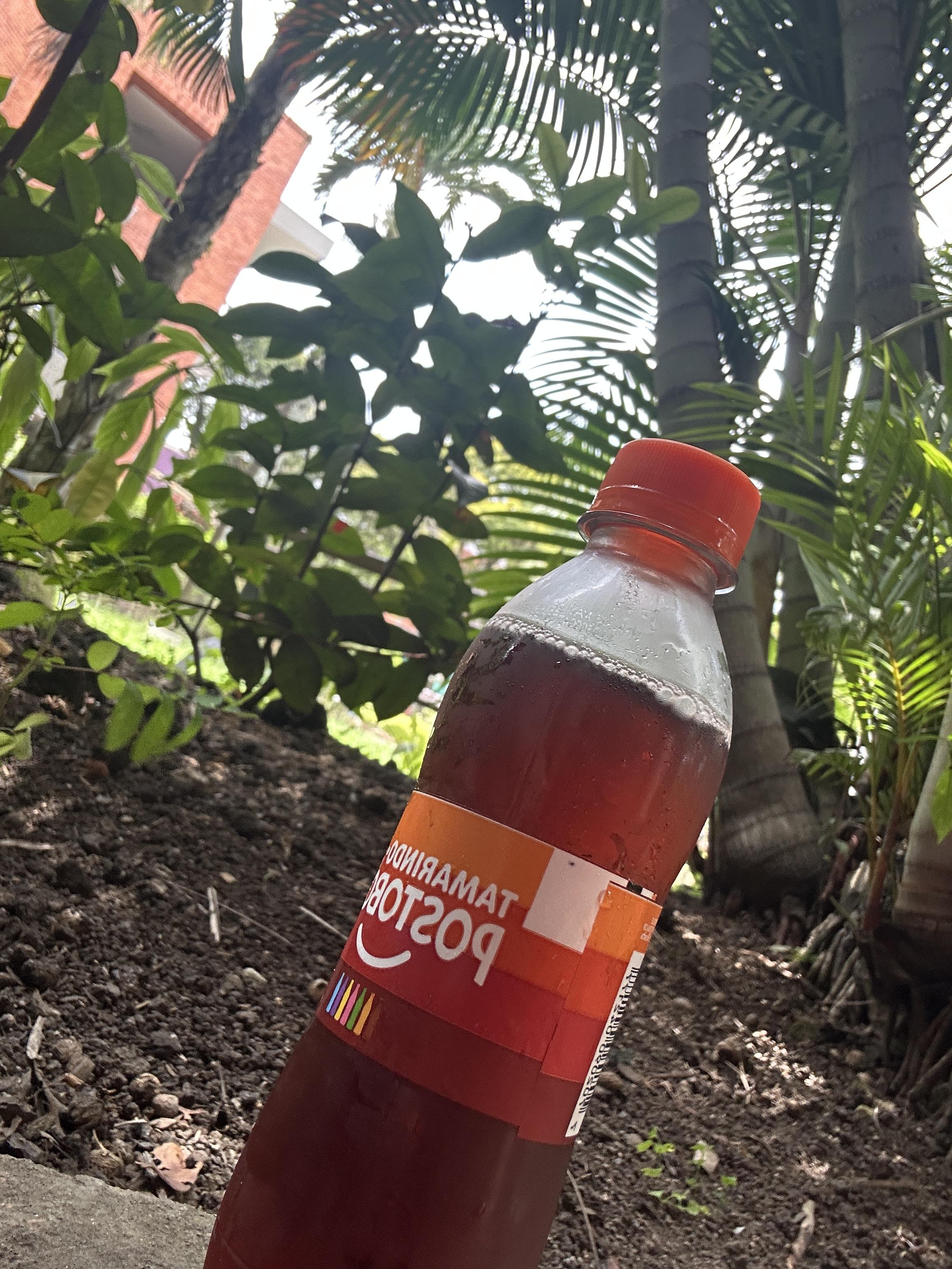tamarindo: (206, 441, 758, 1269)
